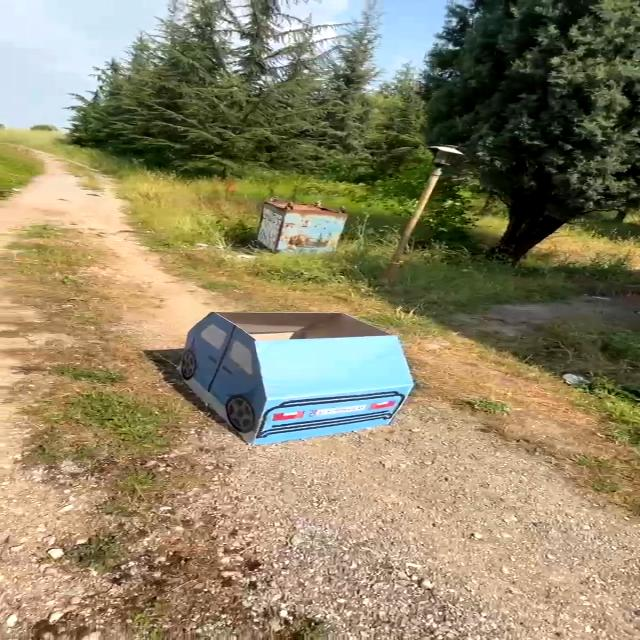blue_car: (144, 295, 434, 450)
